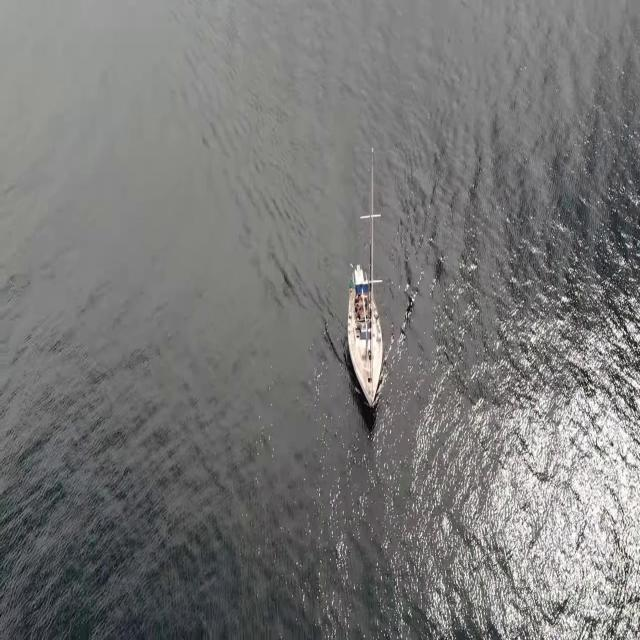sailboat: (344, 259, 386, 417)
